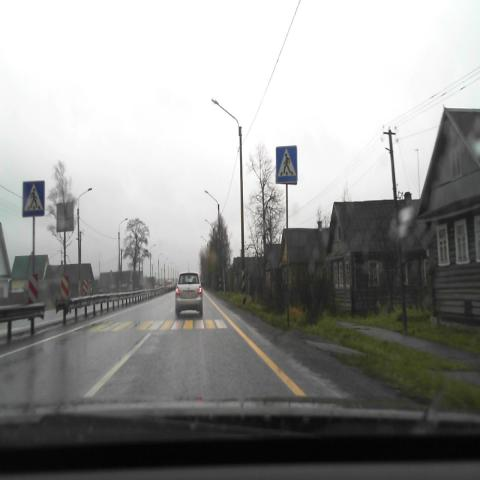5_19_1: (276, 145, 297, 184), (23, 180, 44, 216)
